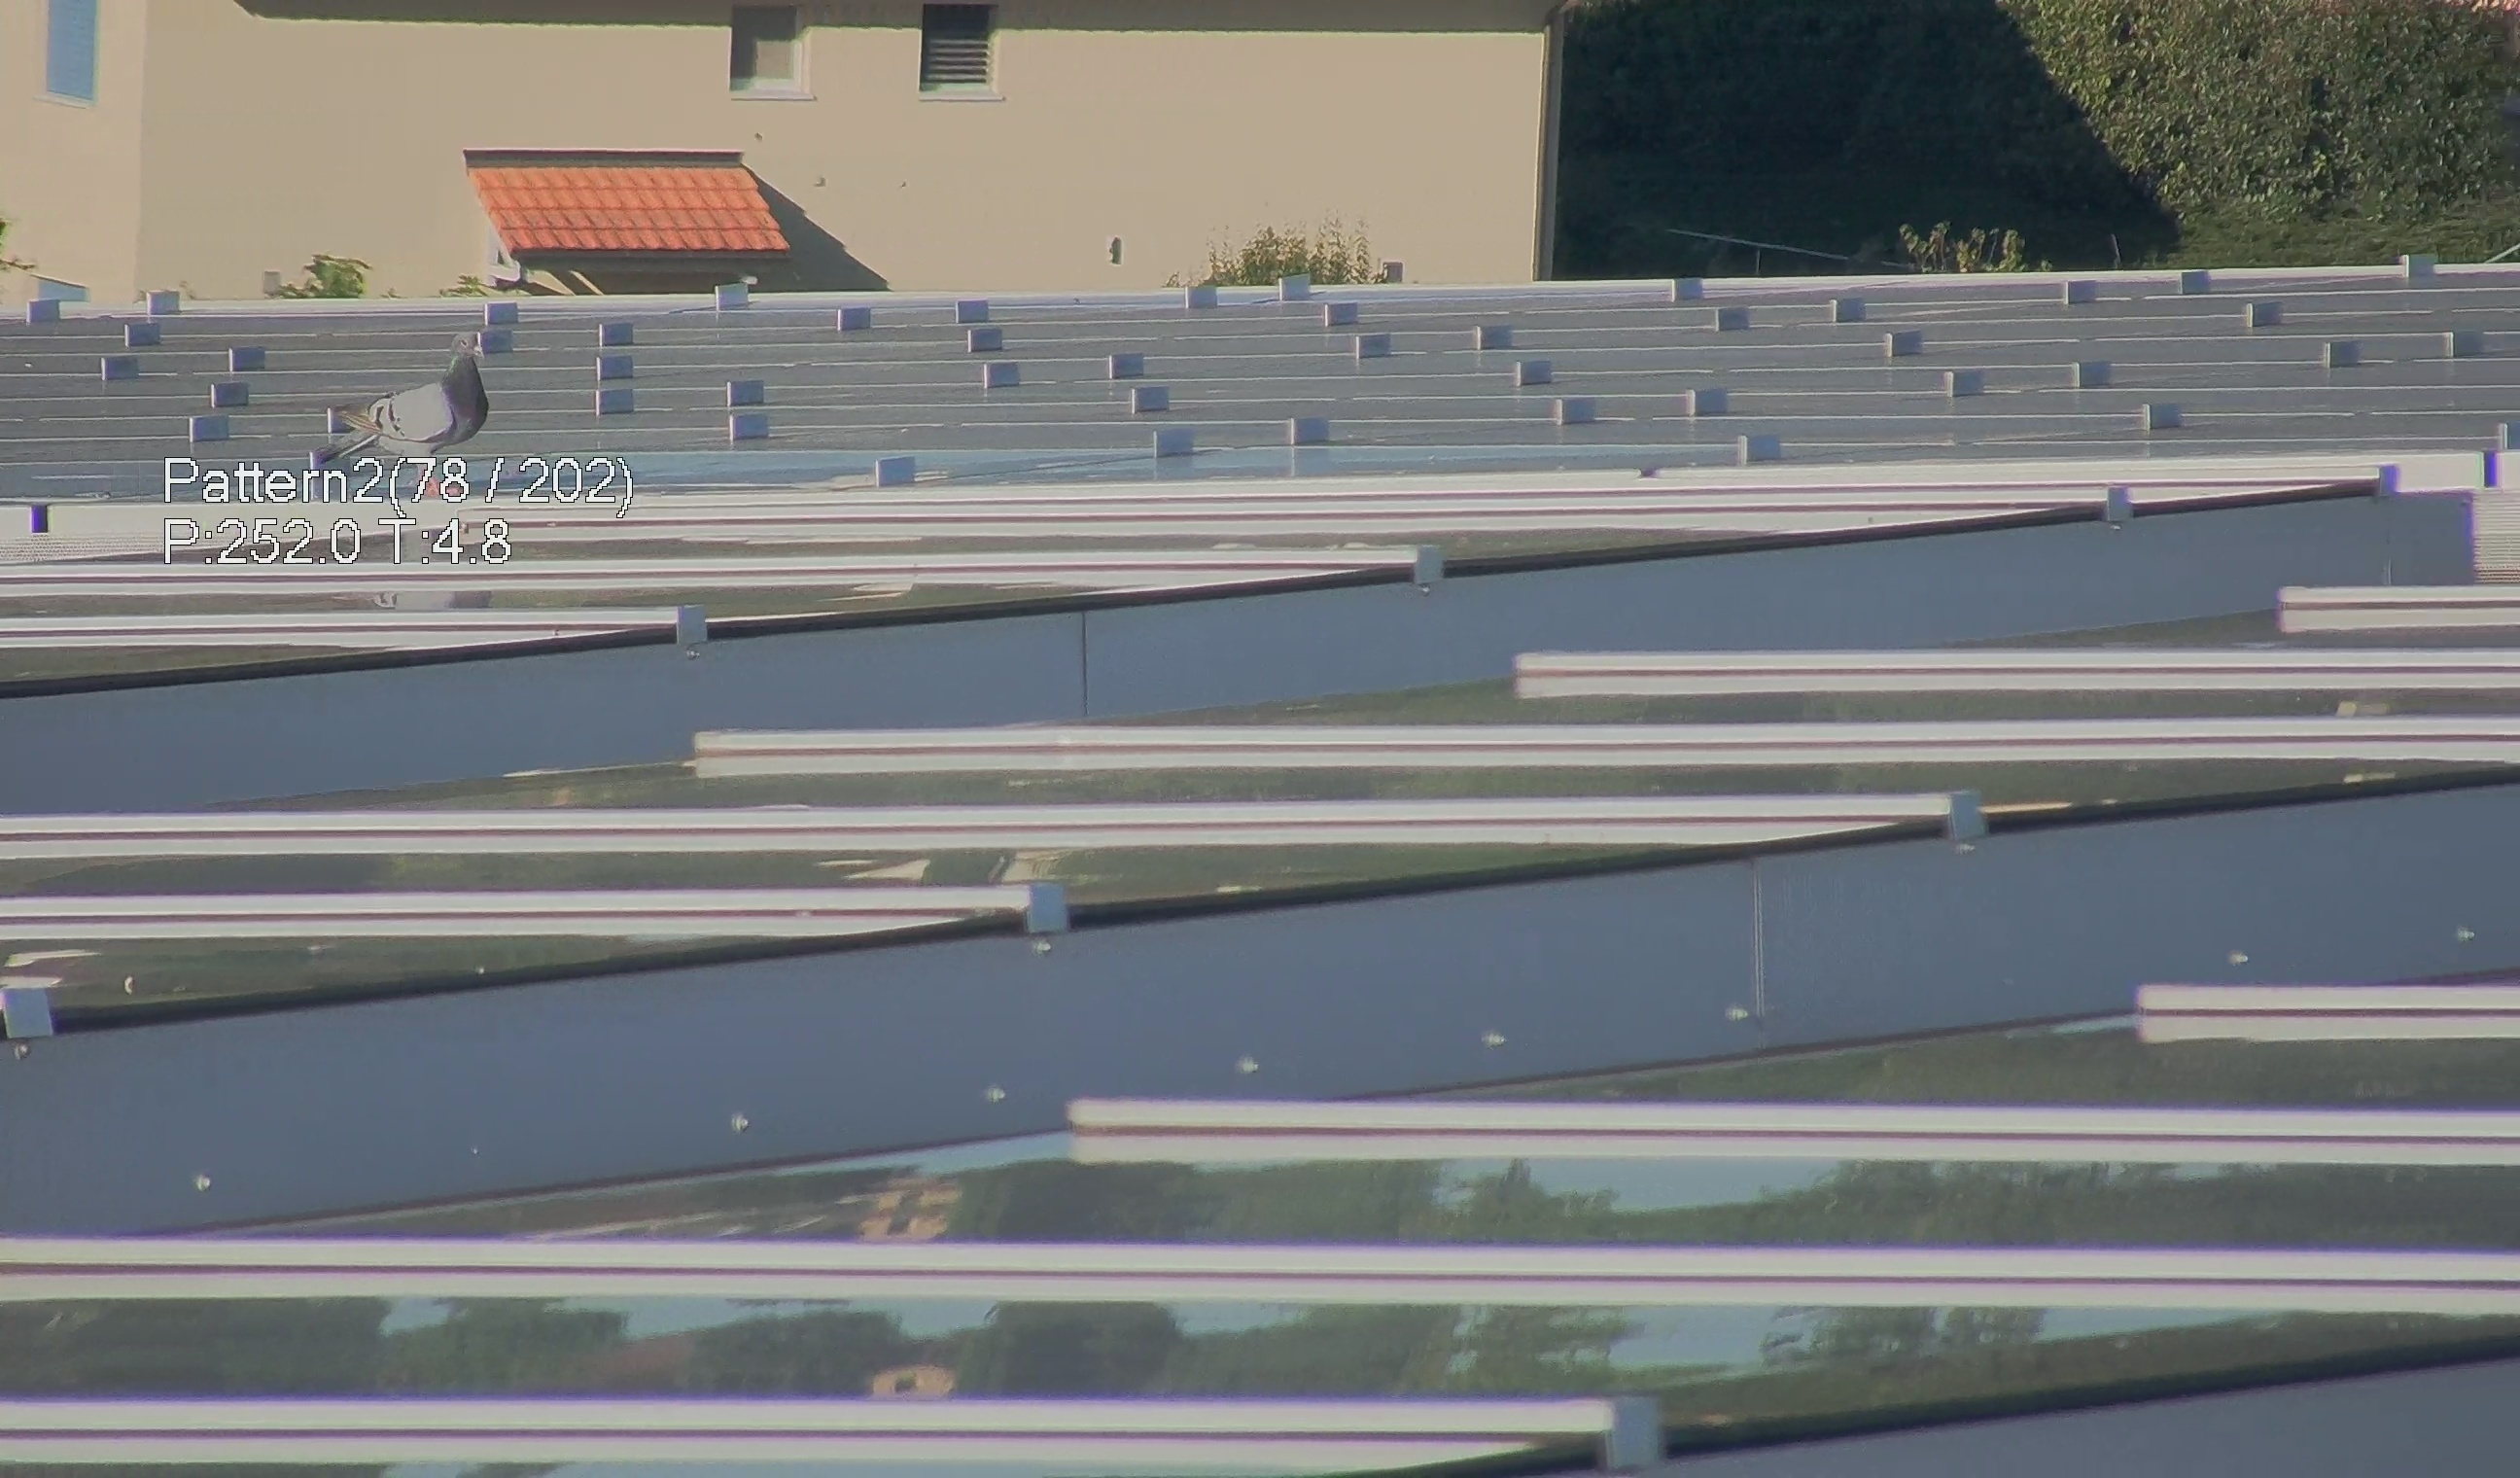Pigeon: (346, 322, 489, 459)
